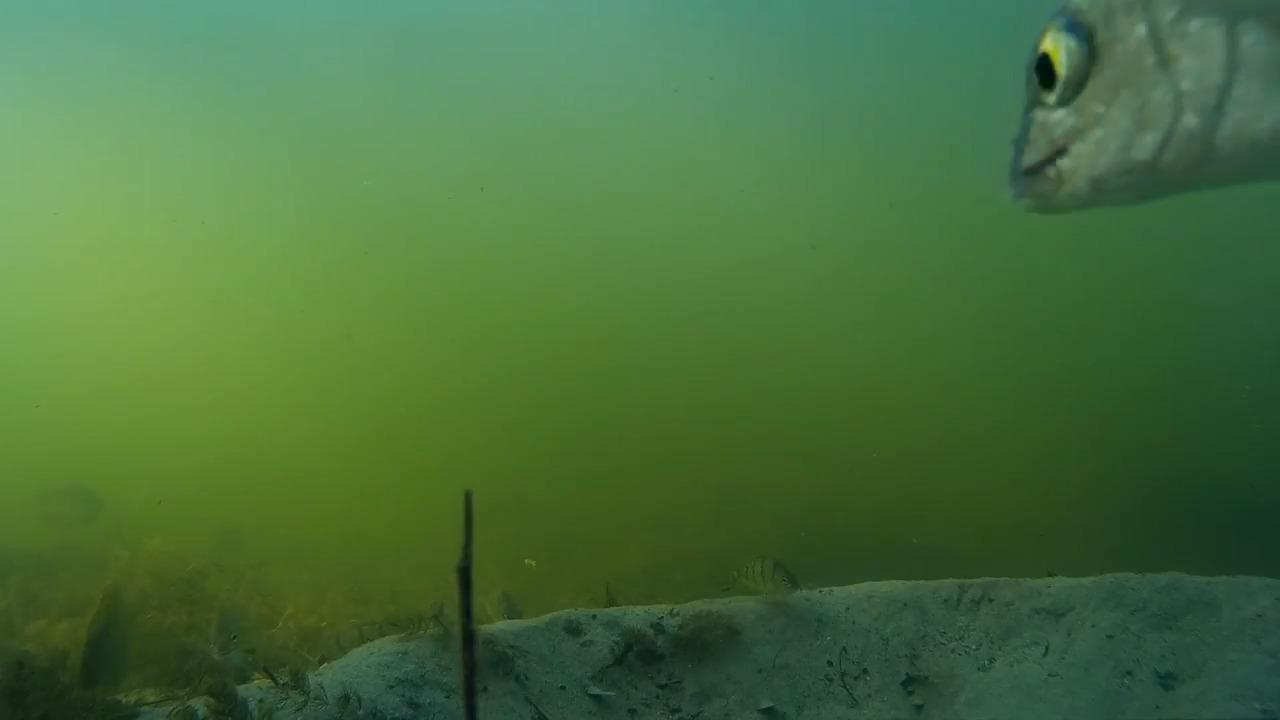Tilapia: (1018, 10, 1277, 231), (313, 590, 446, 690), (53, 578, 163, 682), (720, 538, 813, 626), (0, 472, 127, 532), (194, 596, 273, 686), (468, 564, 535, 644)
